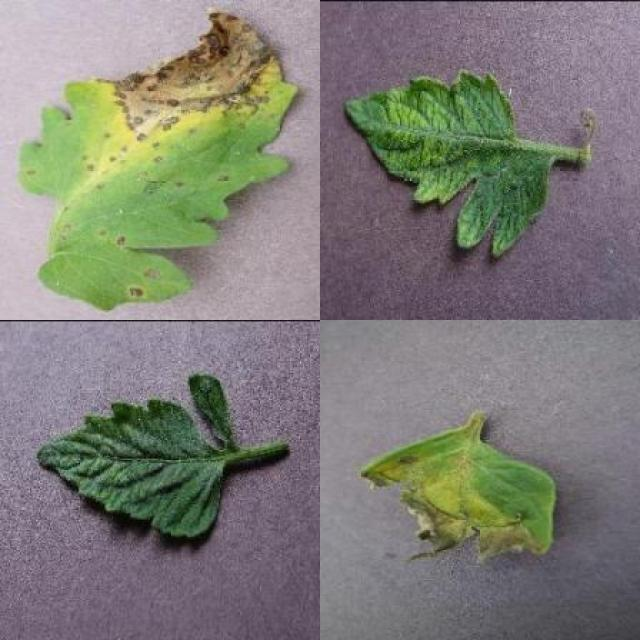Late Blight: (359, 422, 561, 568)
Mosaic Virus: (339, 66, 555, 260), (35, 374, 234, 540)
Septoria: (22, 8, 297, 312)
